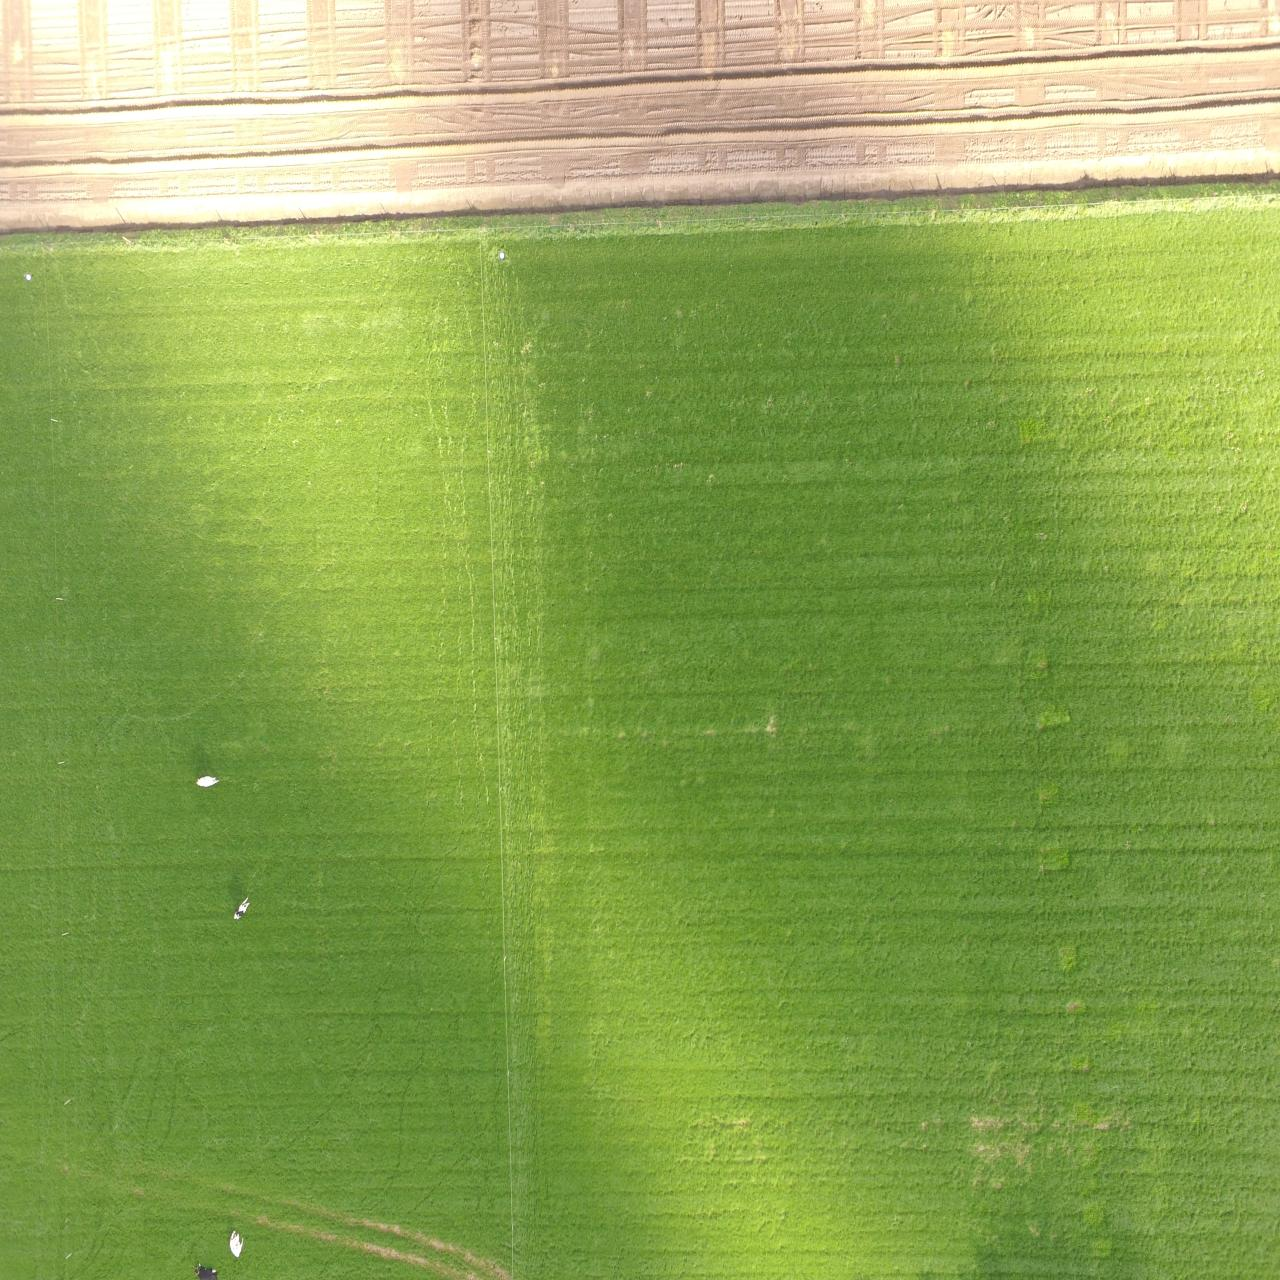cow: (229, 1227, 244, 1258), (230, 896, 248, 920), (192, 1262, 218, 1278), (195, 774, 219, 789)
